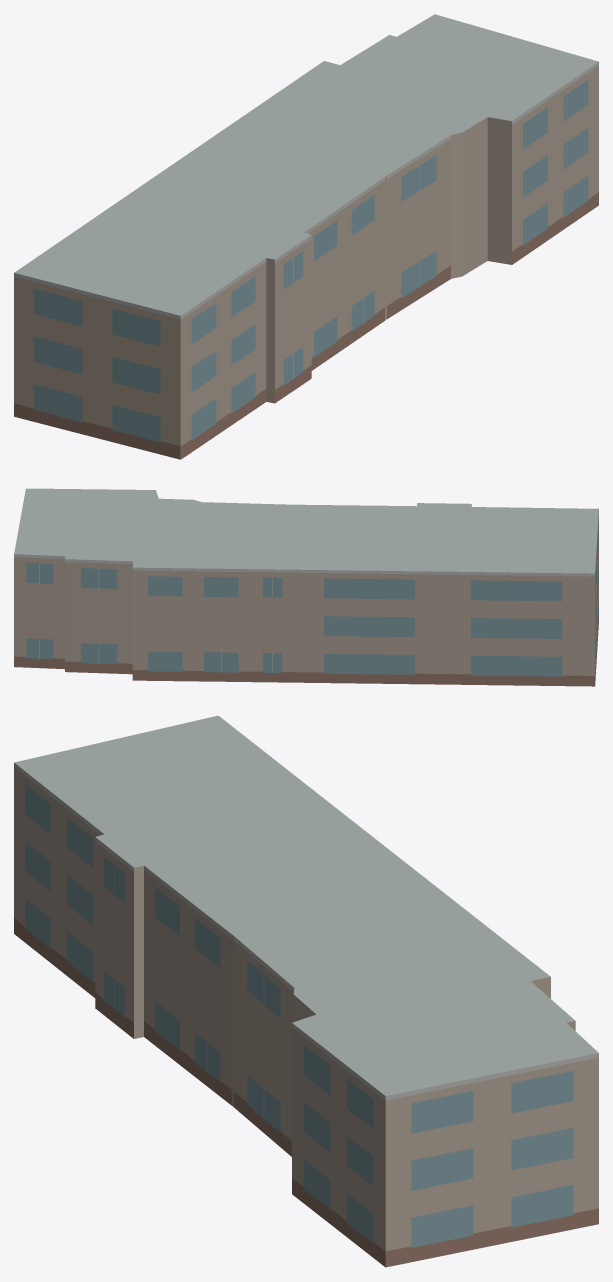
File: survey-upis-32582253.glb
3 views of the same model, one above another, from view 1: azimuth 30°, elevation 25°; view 2: azimuth 150°, elevation 25°; view 3: azimuth 270°, elevation 25° (orthographic). The views are drawn at different scales.
Parts seen in each view (by area): view 1: survey-upis-32582253.tmp; view 2: survey-upis-32582253.tmp; view 3: survey-upis-32582253.tmp.
Boxes of the visible parts, bbox=[...] form: survey-upis-32582253.tmp: bbox=[14, 14, 598, 459]; survey-upis-32582253.tmp: bbox=[14, 488, 598, 686]; survey-upis-32582253.tmp: bbox=[14, 715, 598, 1267].
Bounding box in the file's own units: 43.6 × 9.15 × 28.31.
